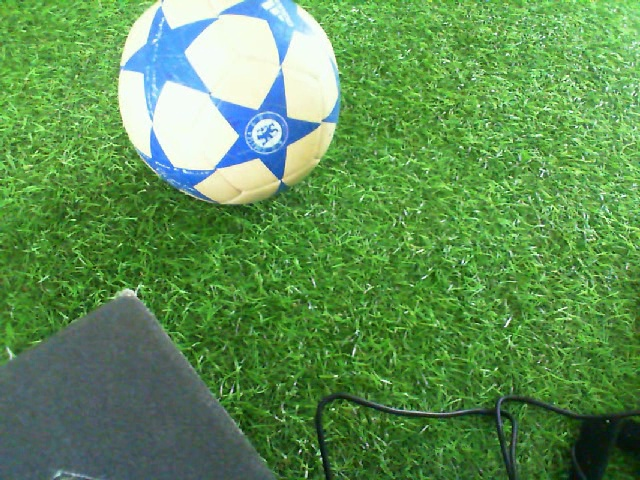ball: (116, 1, 343, 208)
